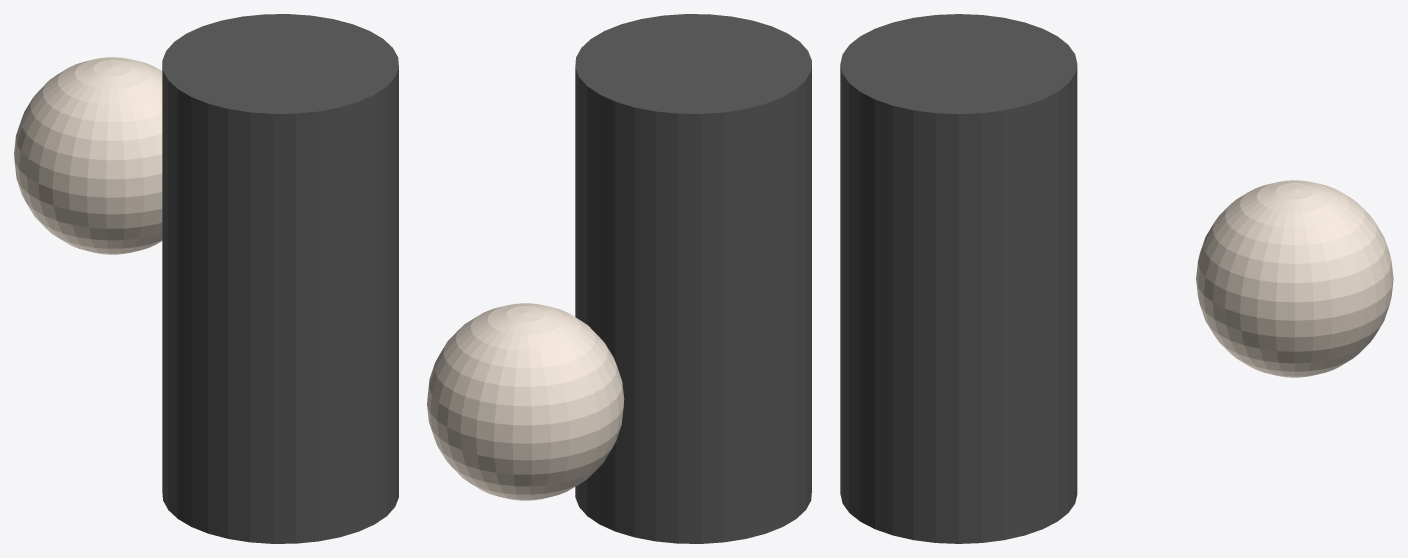
File: echo.glb
The picture shows the model from 3 angles, left to right: view 1: azimuth 30°, elevation 25°; view 2: azimuth 150°, elevation 25°; view 3: azimuth 270°, elevation 25°; orthographic projection.
Parts seen in each view (by area): view 1: EchoBody, EchoHead; view 2: EchoBody, EchoHead; view 3: EchoBody, EchoHead.
Boxes of the visible parts, x1=… form: EchoBody: x1=162, y1=14, x2=398, y2=543; EchoHead: x1=14, y1=57, x2=162, y2=254; EchoBody: x1=575, y1=14, x2=811, y2=543; EchoHead: x1=427, y1=303, x2=624, y2=500; EchoBody: x1=840, y1=14, x2=1077, y2=543; EchoHead: x1=1196, y1=180, x2=1393, y2=377.
Bounding box in the file's own units: 0.6 × 1.2 × 1.4.
